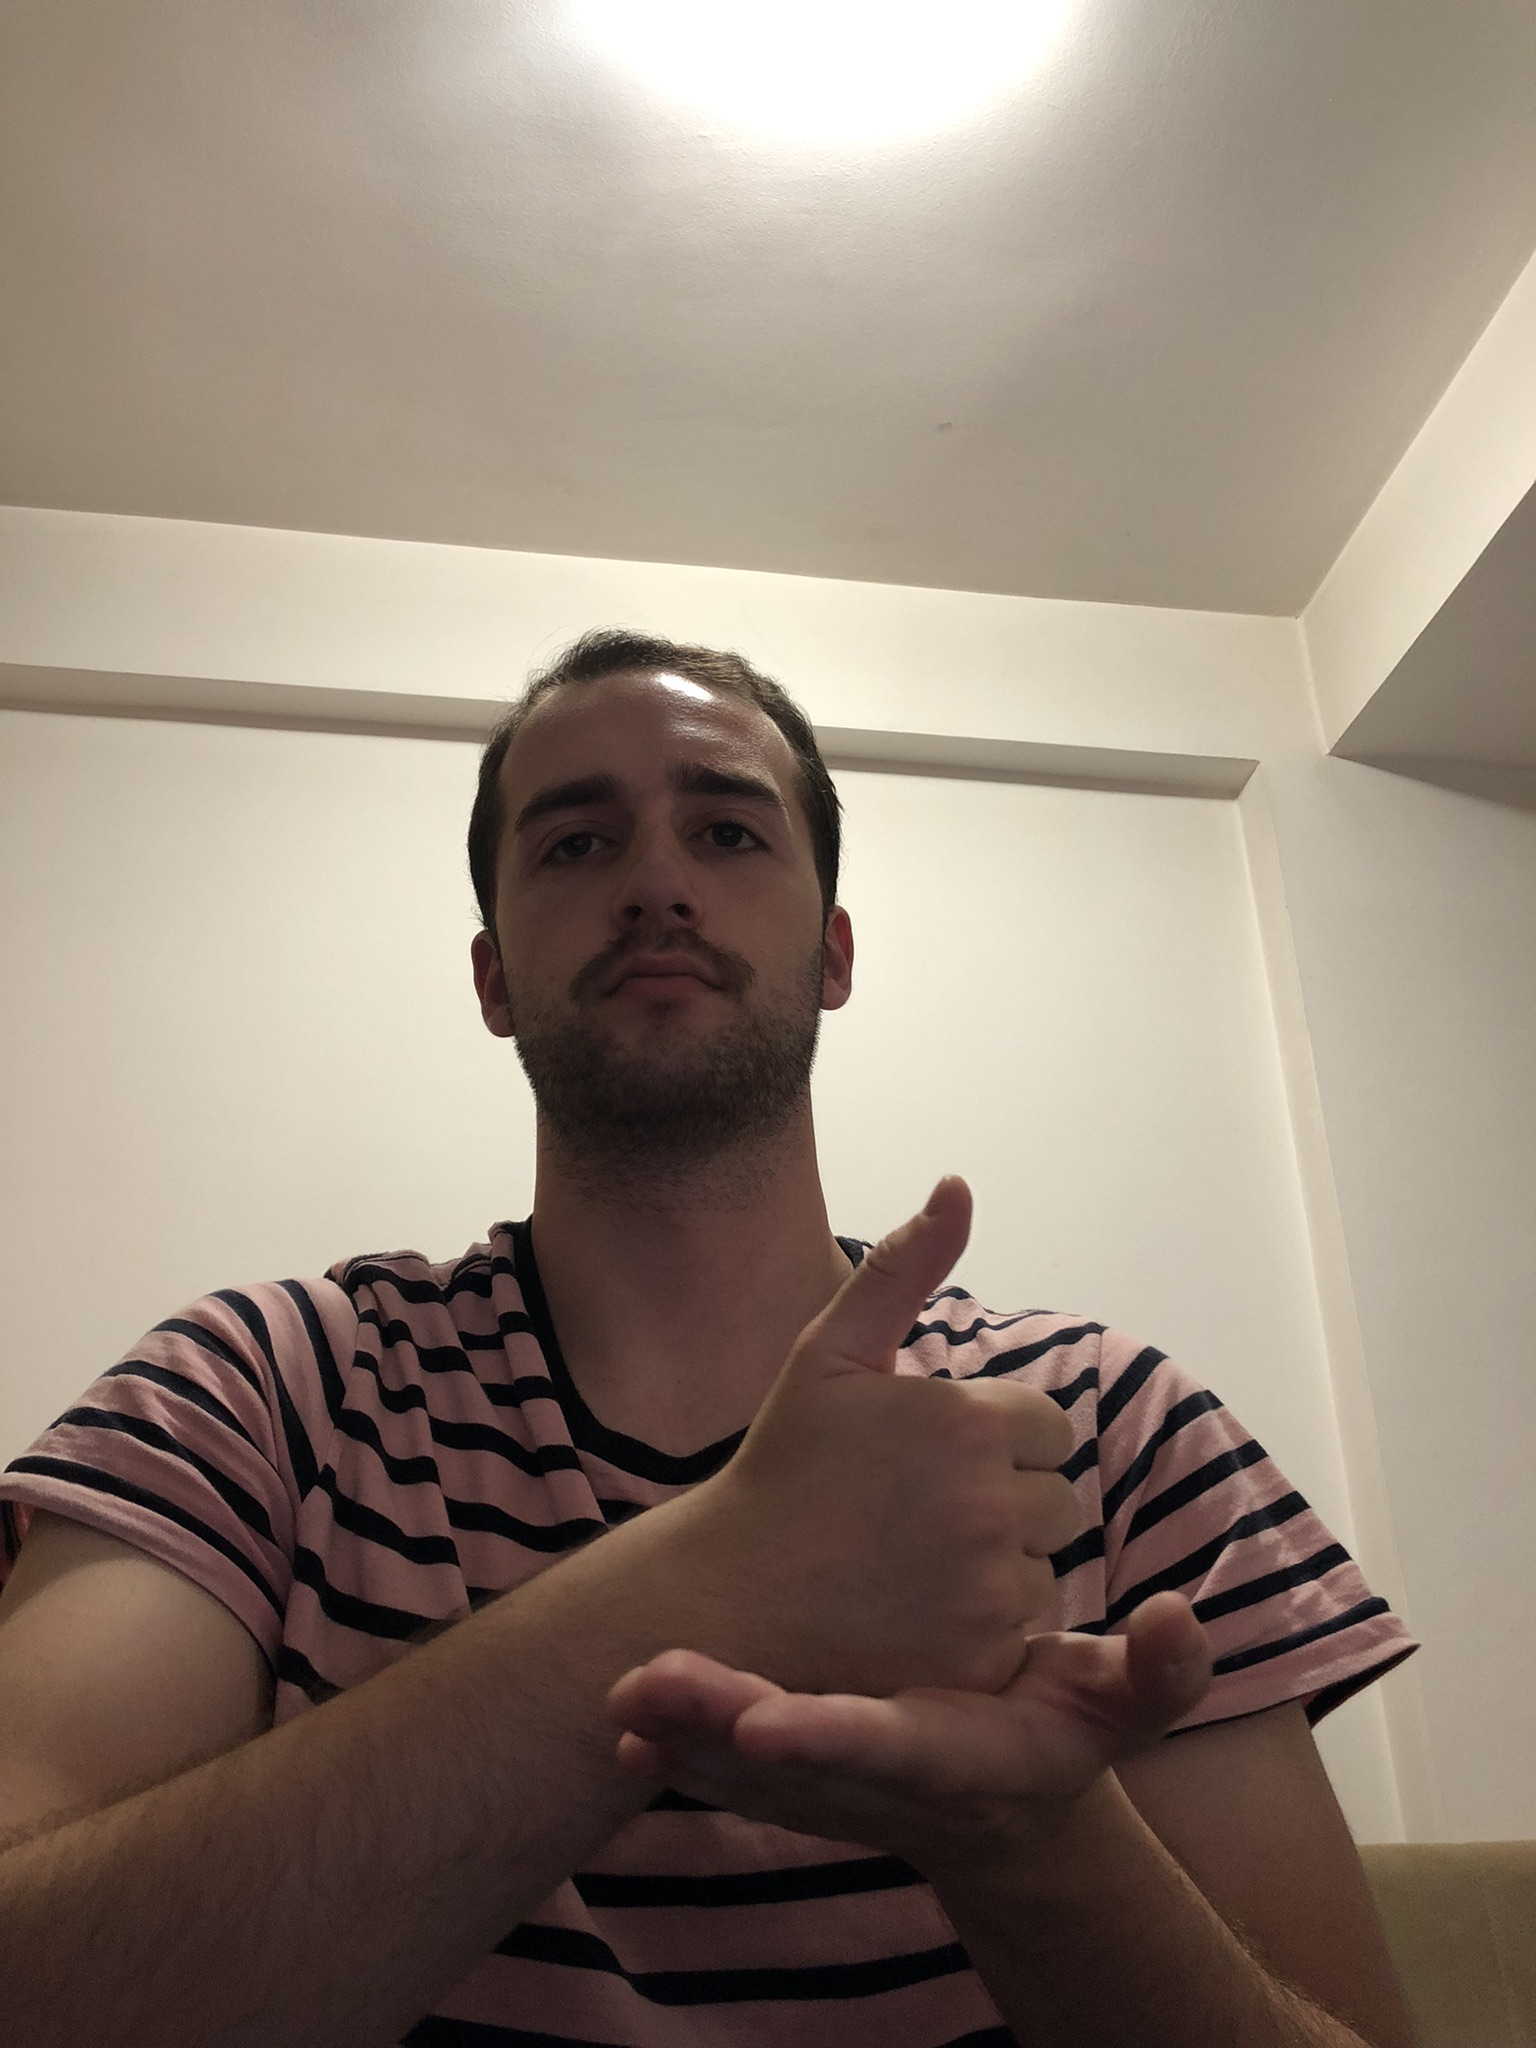Help: (579, 1155, 1225, 1859)
